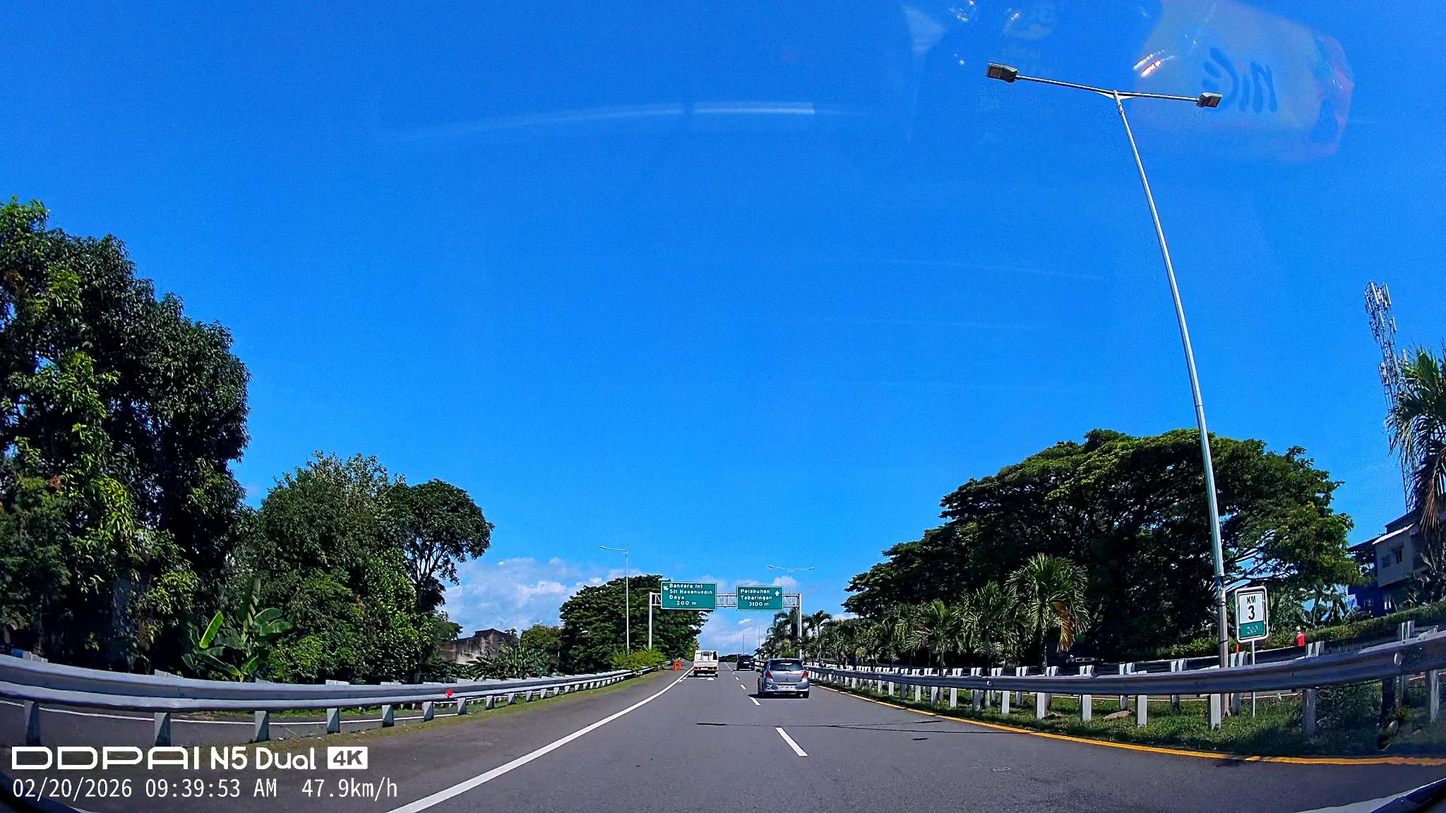rambu_teks: (661, 581, 717, 610), (737, 586, 783, 611)
